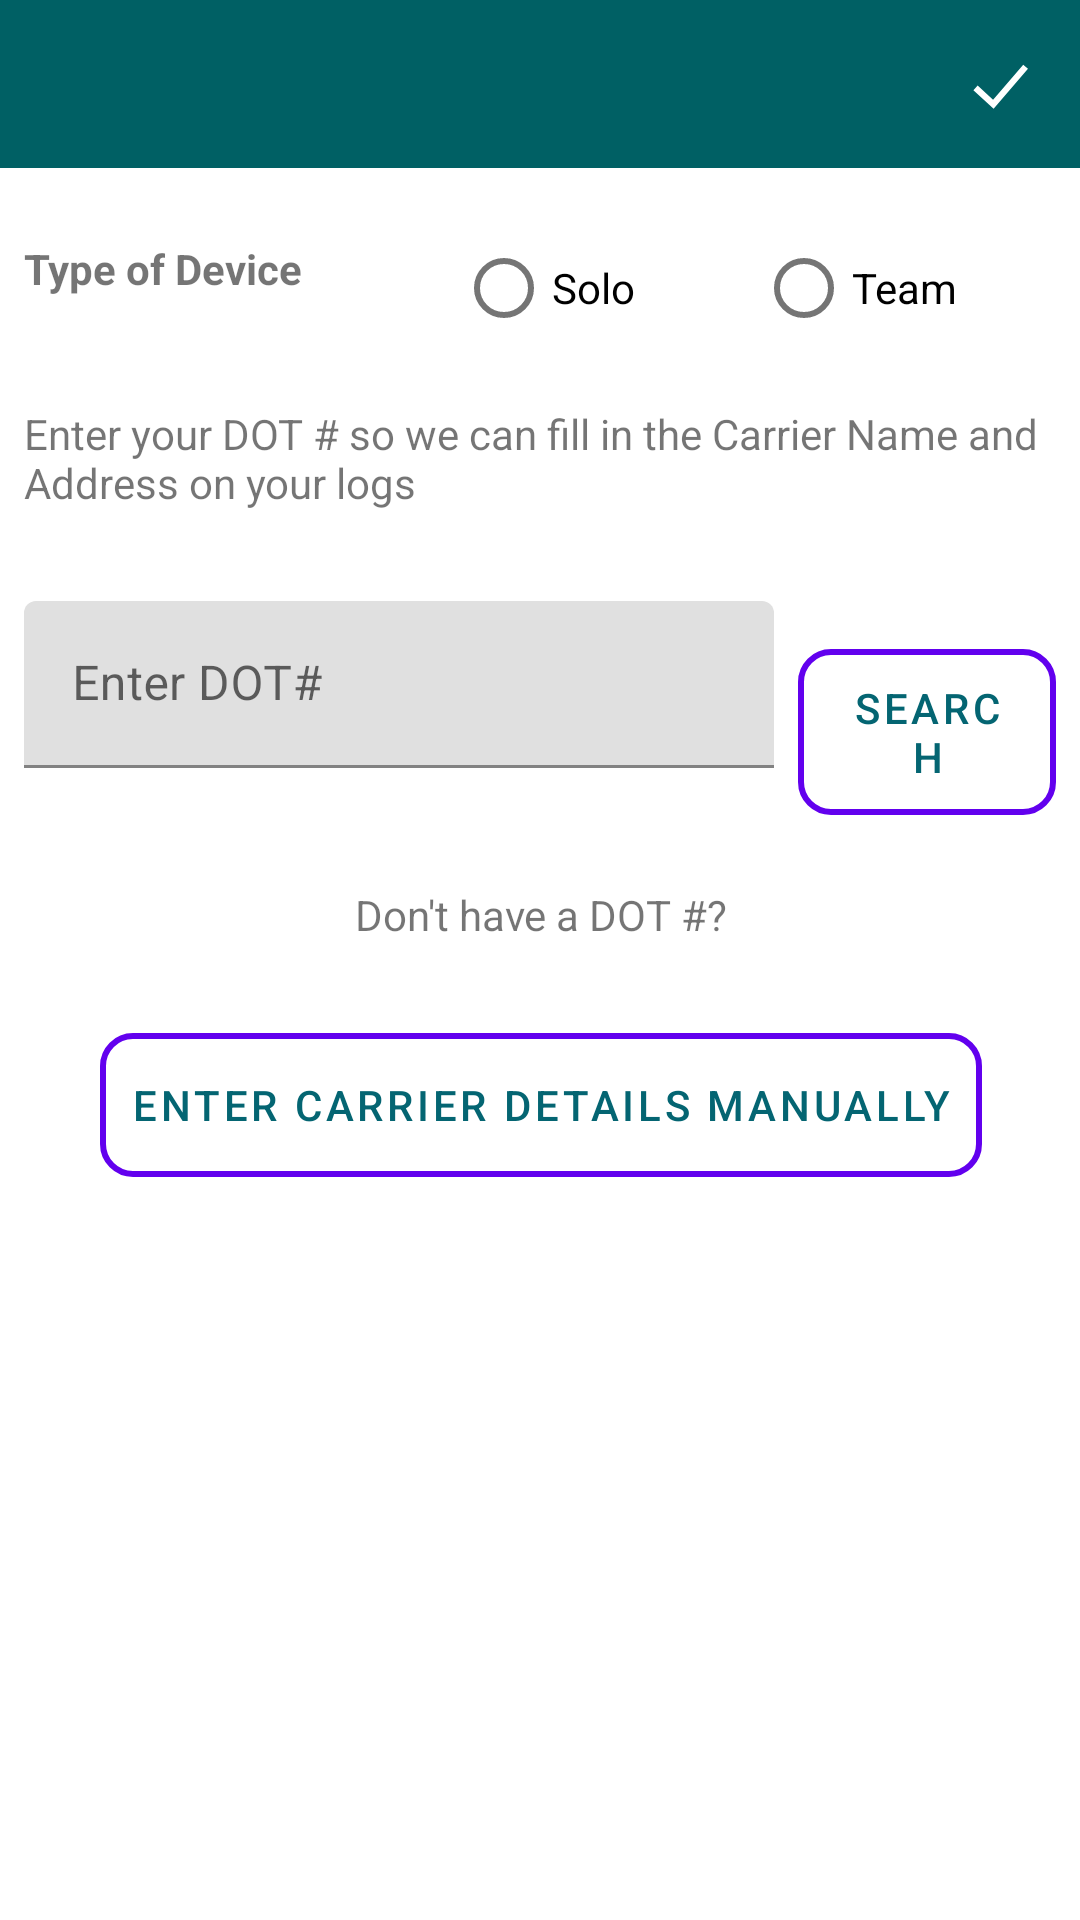

Screen size 1080*1920. Icon name, then its center in pixels as point (x, y):
tick: point (1000, 87)
